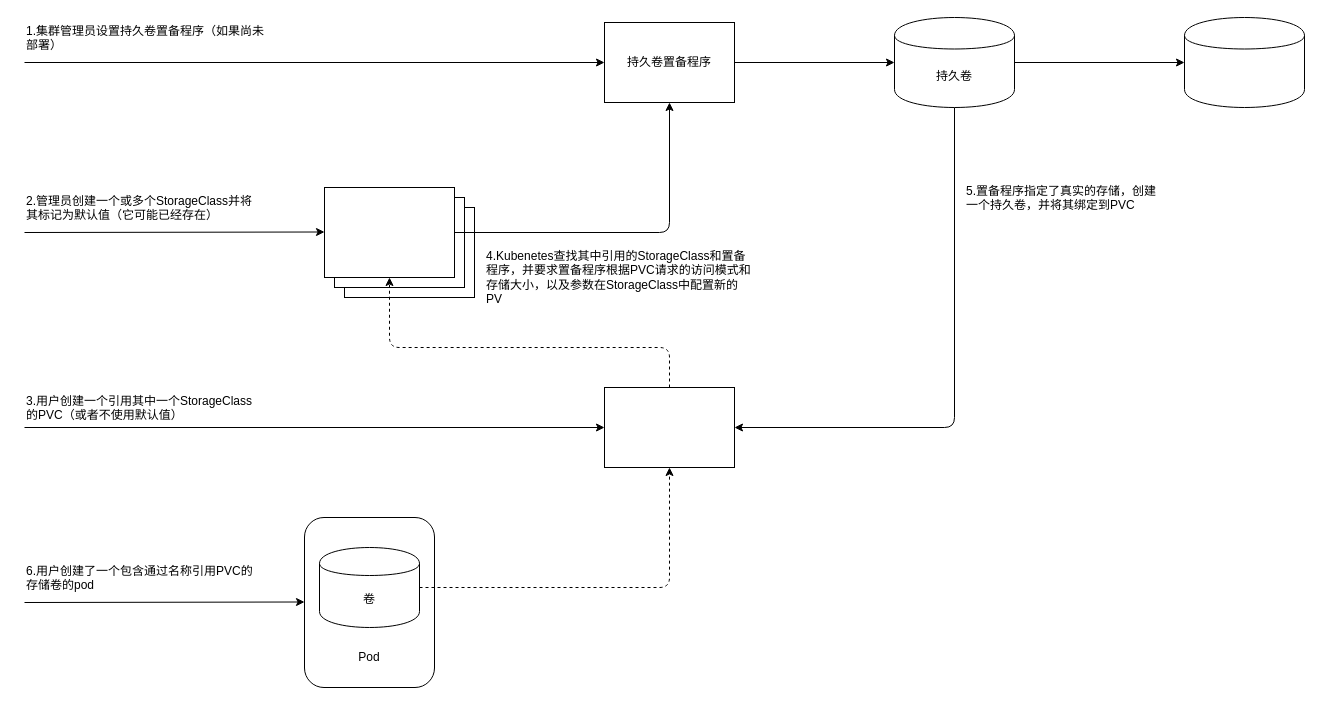
Some shapes in this 1322 by 705 pixel diagram are drawn without their labels. Each missing label, with the box of its shape:
持久卷声明: (604, 386, 734, 468)
真实的存储: (1184, 16, 1304, 108)
